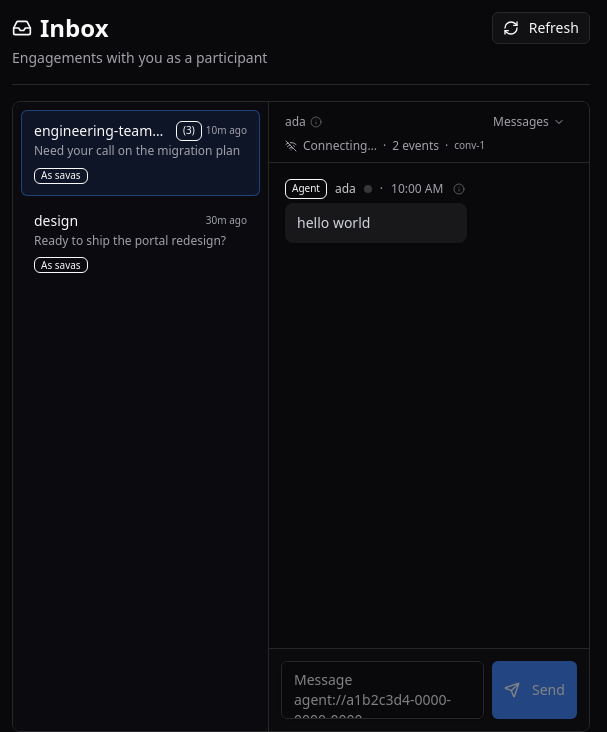
Test: InboxPage — timeline/messages dropdown (#1482) › shows all events when switched to Full timeline
Open the dropdown and switch to "Full timeline"
Click the button with test id "timeline-filter-trigger" at point(529, 122), box [485,110,573,134]
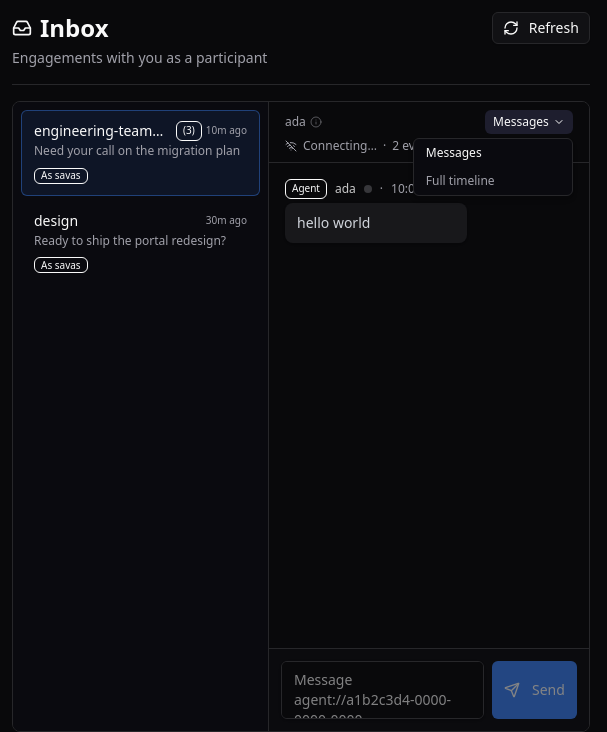
Click the option with test id "timeline-filter-option-full" at point(493, 181), box [414,167,572,195]
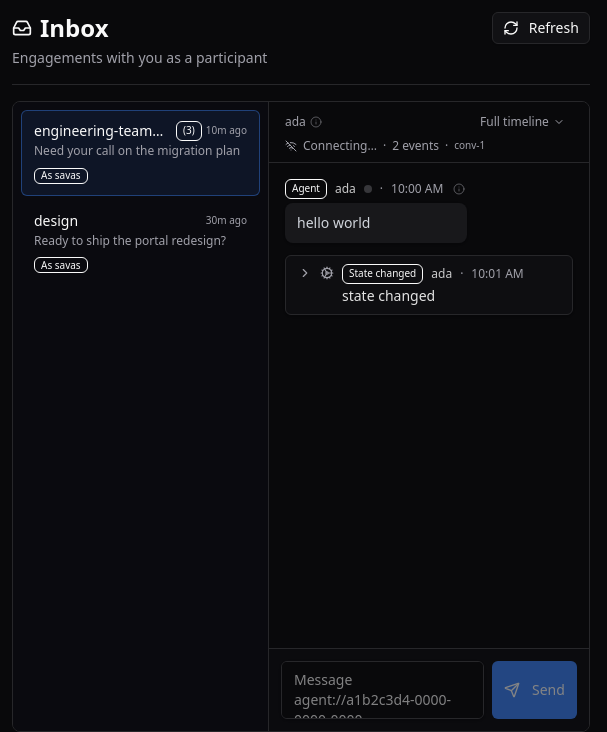
Expected: the element with test id "inbox-event-e-msg" is shown, [285,179,467,243]
Now the element with test id "inbox-event-card-e-state" is shown, box [285,255,573,315]
